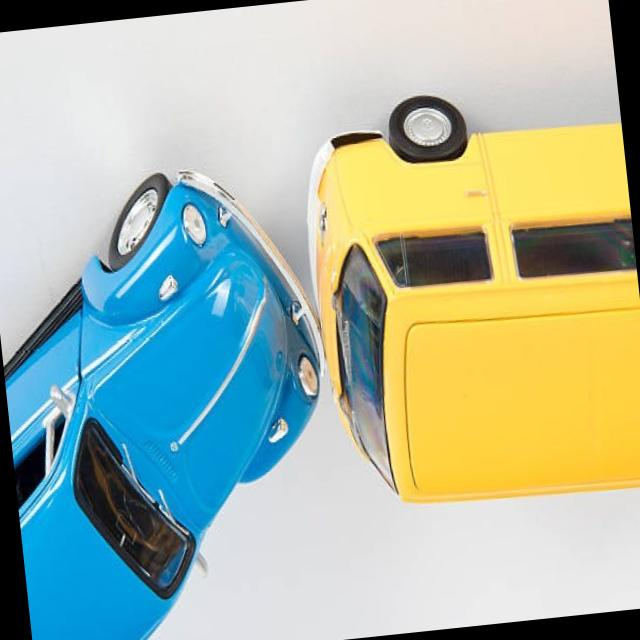car: (0, 163, 350, 640), (292, 77, 640, 512)
